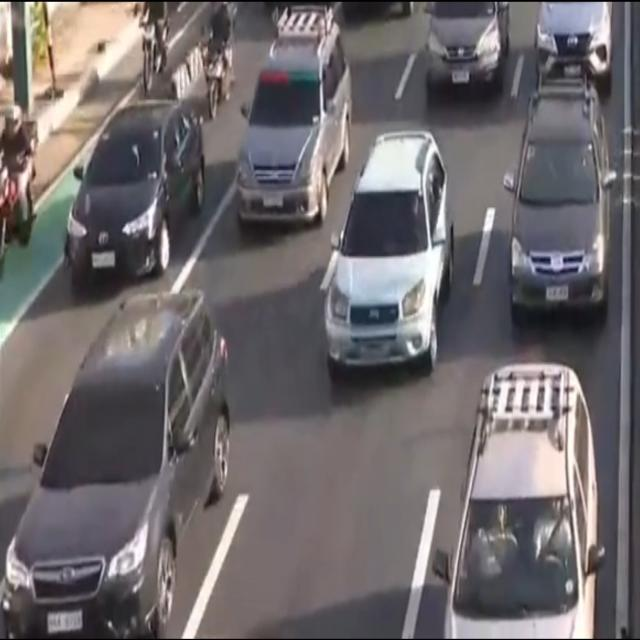Motorcycle: (0, 104, 44, 276), (202, 0, 236, 123), (131, 0, 171, 92)
SUV: (0, 298, 232, 640), (438, 363, 608, 640), (325, 132, 456, 375), (228, 19, 354, 225), (507, 82, 614, 316), (533, 0, 615, 92)
Sedan: (63, 101, 209, 295), (426, 0, 512, 98)
